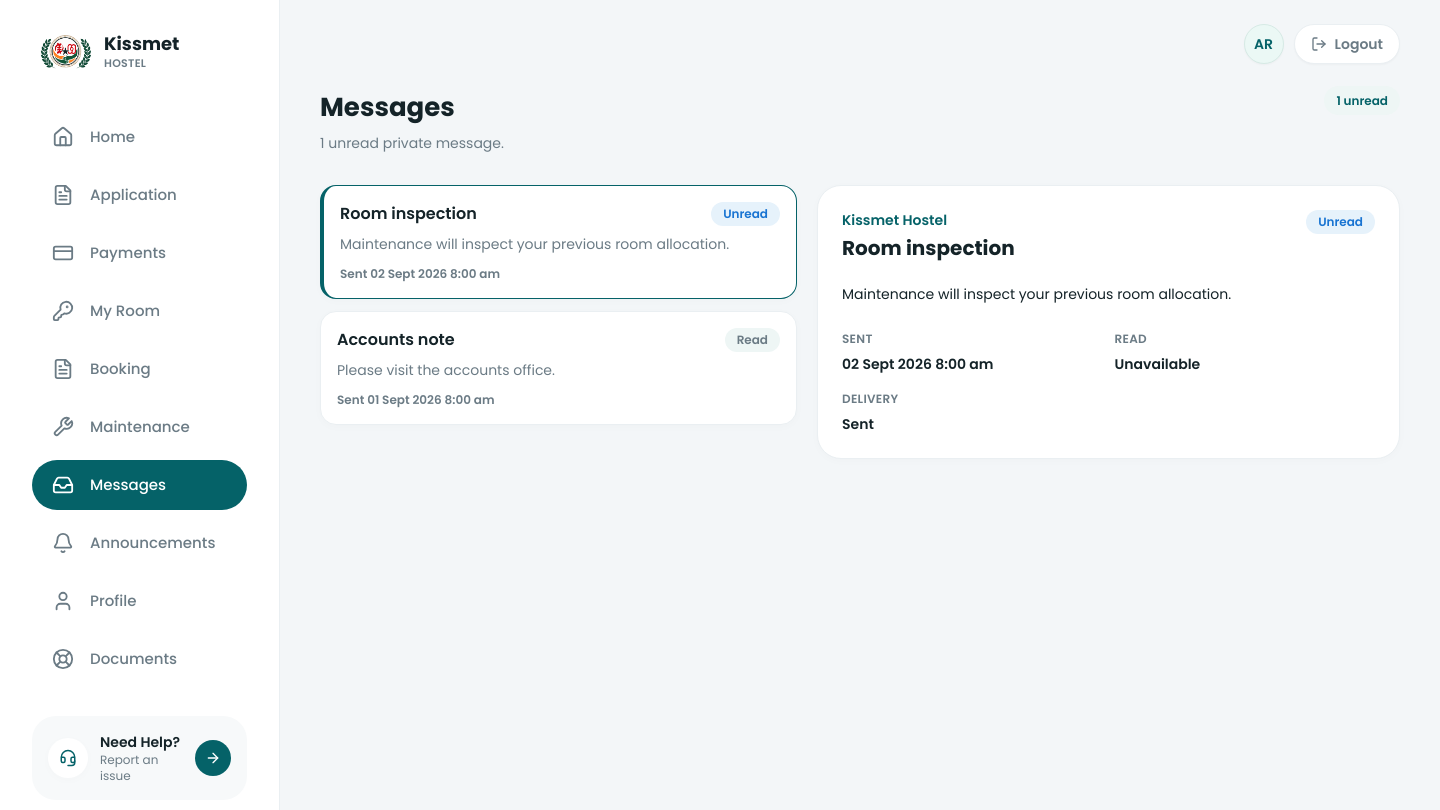
Scenario: resident messages › loads detail and marks only the selected resident delivery read
The width and height of the screenshot is (1440, 810).
Click the button "Room inspection" at {"x": 558, "y": 242}, box [320,185,797,299]
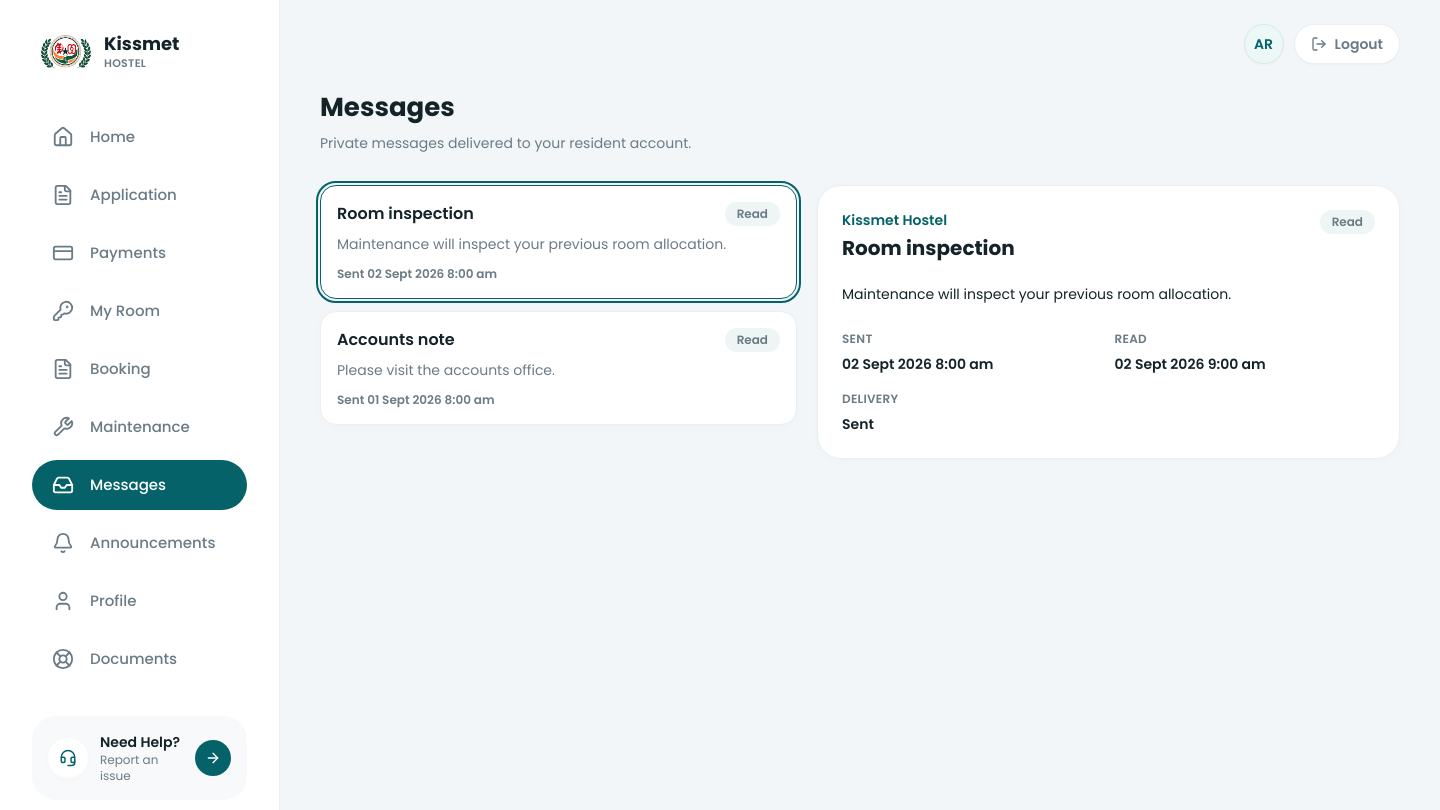
Expected: the 1st text "Maintenance will inspect your previous room allocation." is shown, [337,234,780,254]
Now the text "Private messages delivered to your resident account." is shown, box [320,133,691,153]
